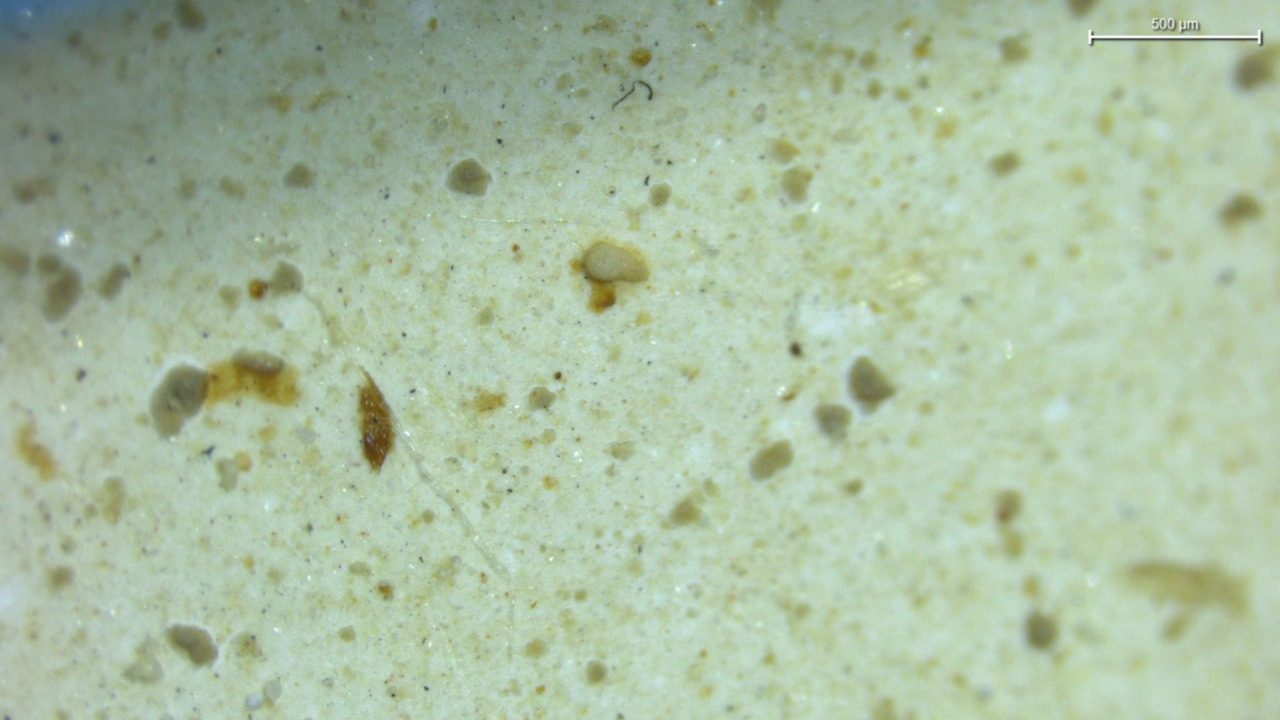microplastic_fragment: (583, 242, 648, 282)
